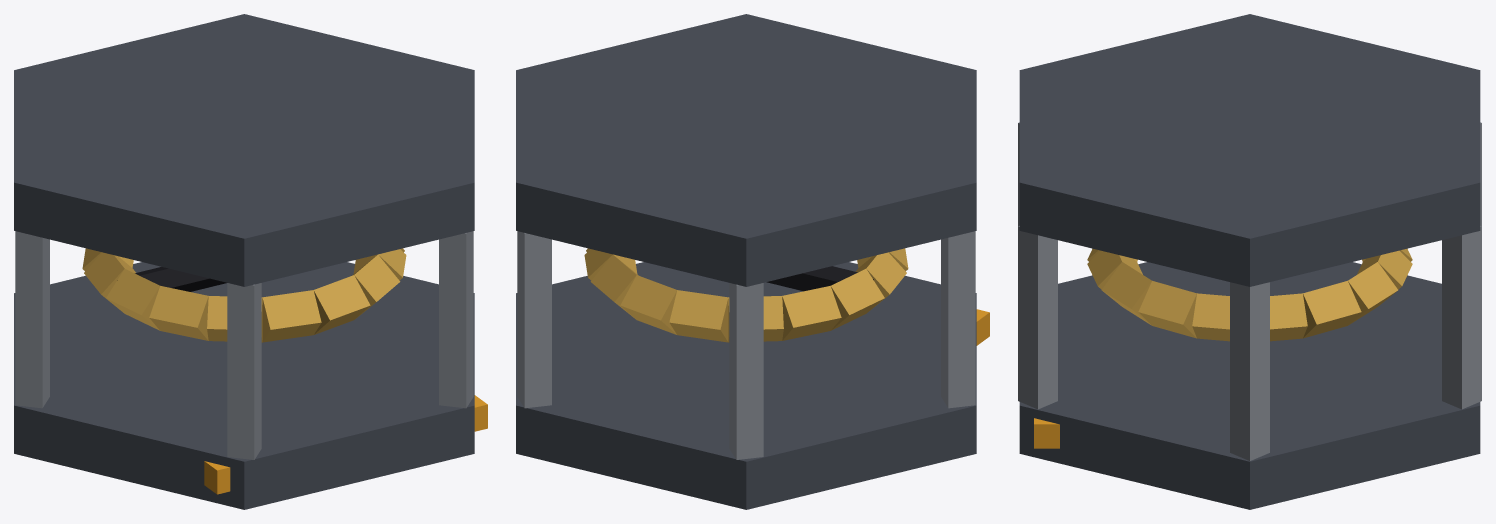
The model's file is ship_gyro.obj.
The picture shows the model from 3 angles, left to right: view 1: azimuth 30°, elevation 25°; view 2: azimuth 150°, elevation 25°; view 3: azimuth 270°, elevation 25°; orthographic projection.
Parts seen in each view (by area): view 1: drum, cage, flywheel, yoke, status; view 2: drum, cage, flywheel, yoke; view 3: drum, cage, flywheel, status.
Part boxes in pixels (x1=…): drum: x1=14, y1=14, x2=474, y2=509; cage: x1=15, y1=231, x2=473, y2=459; flywheel: x1=82, y1=248, x2=406, y2=342; yoke: x1=117, y1=267, x2=226, y2=291; status: x1=204, y1=395, x2=487, y2=494; drum: x1=516, y1=14, x2=976, y2=509; cage: x1=517, y1=231, x2=975, y2=459; flywheel: x1=584, y1=248, x2=908, y2=342; yoke: x1=766, y1=266, x2=873, y2=291; drum: x1=1019, y1=14, x2=1480, y2=509; cage: x1=1018, y1=122, x2=1481, y2=460; flywheel: x1=1087, y1=248, x2=1412, y2=341; status: x1=1034, y1=418, x2=1059, y2=448.
Bounding box in the file's own units: 1.6 × 0.9 × 1.39.
